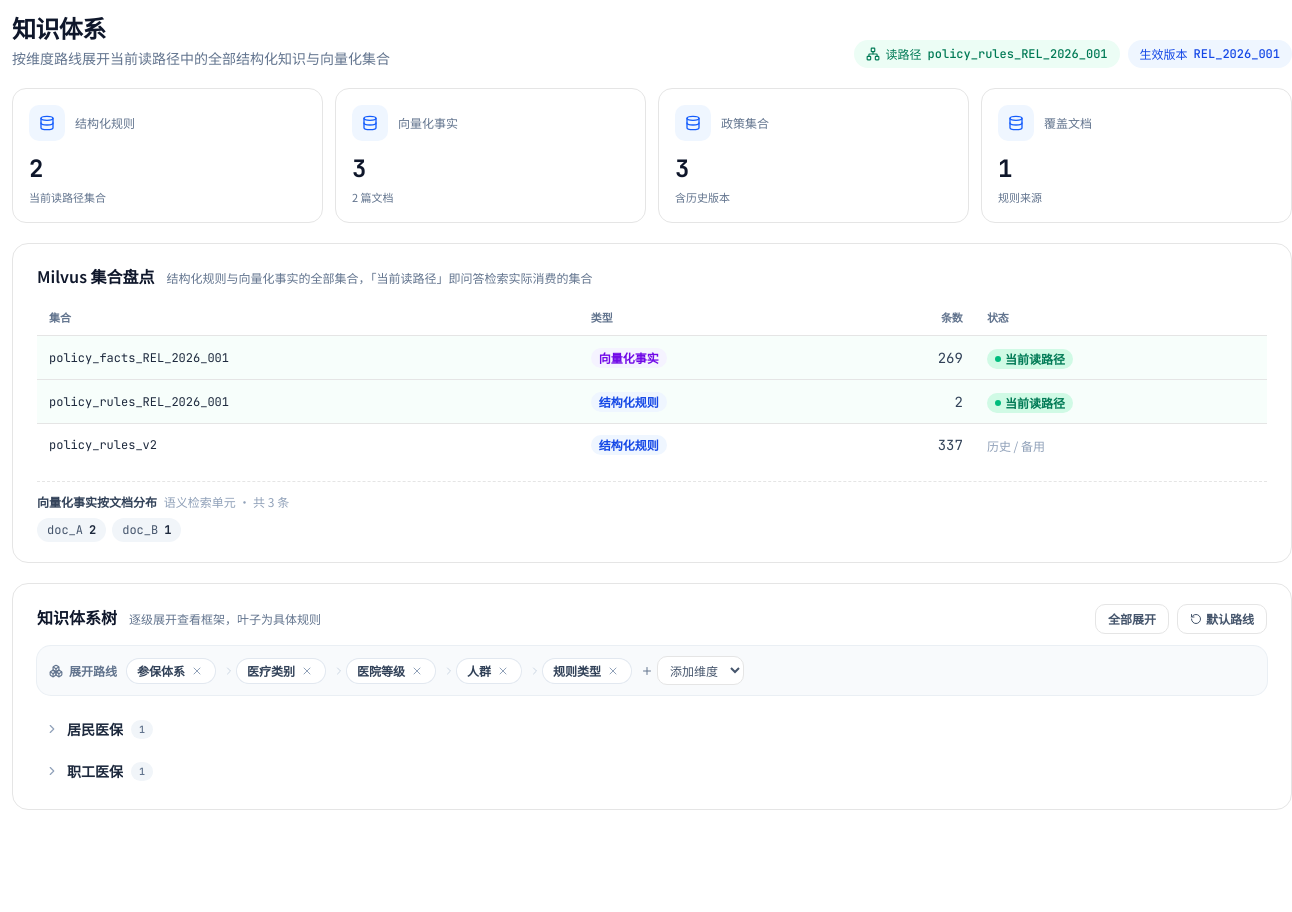
Test: KnowledgeMapPage › 动态字段缺失（键不存在）的规则展开到叶子不崩溃（真实 Milvus 行形态）
Click the button named "移除维度 医疗类别" at point(307, 671), box [299,663,315,679]
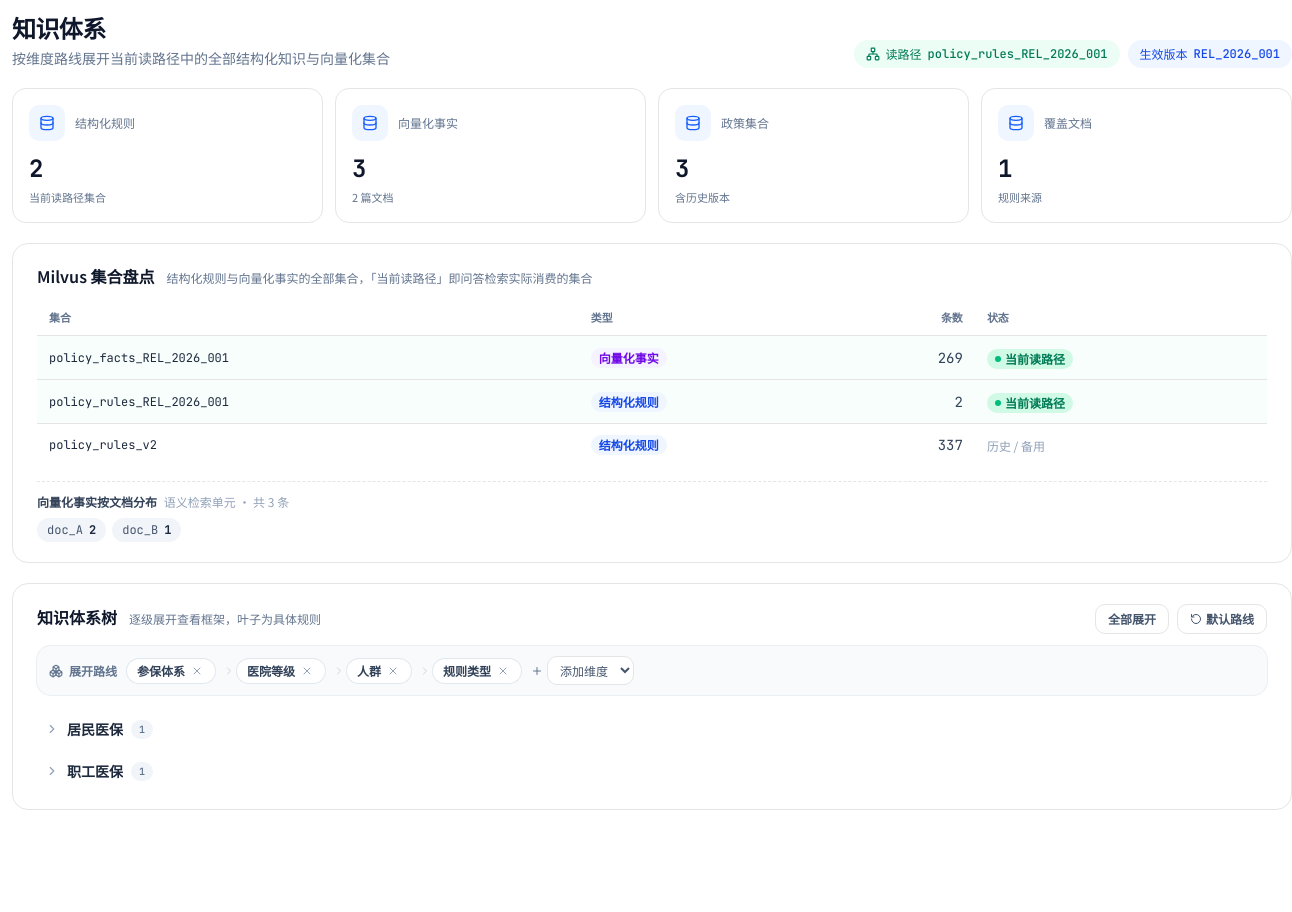
Click the button named "移除维度 医院等级" at point(307, 671), box [299,663,315,679]
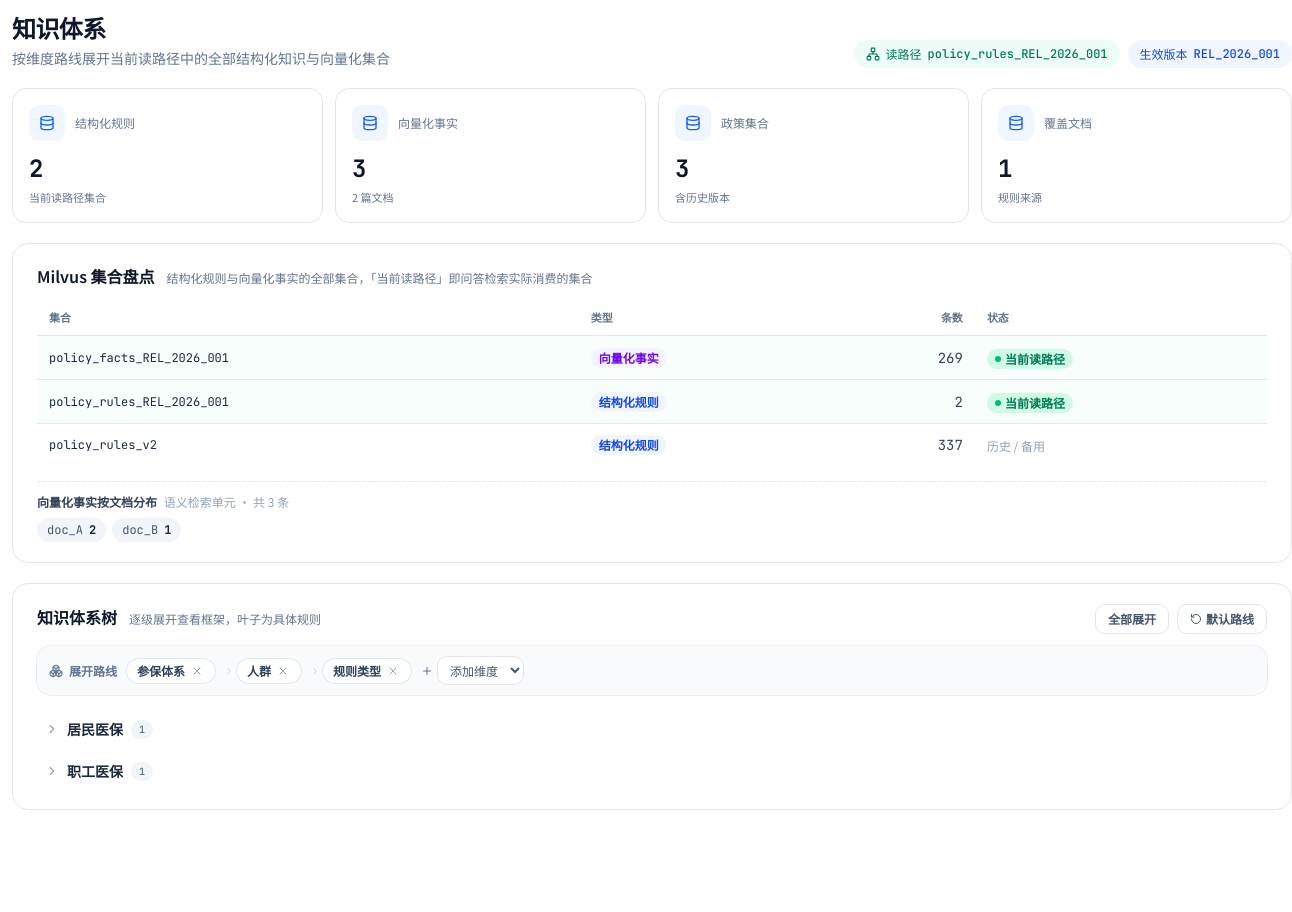
Click the button named "移除维度 人群" at point(283, 671), box [275,663,291,679]
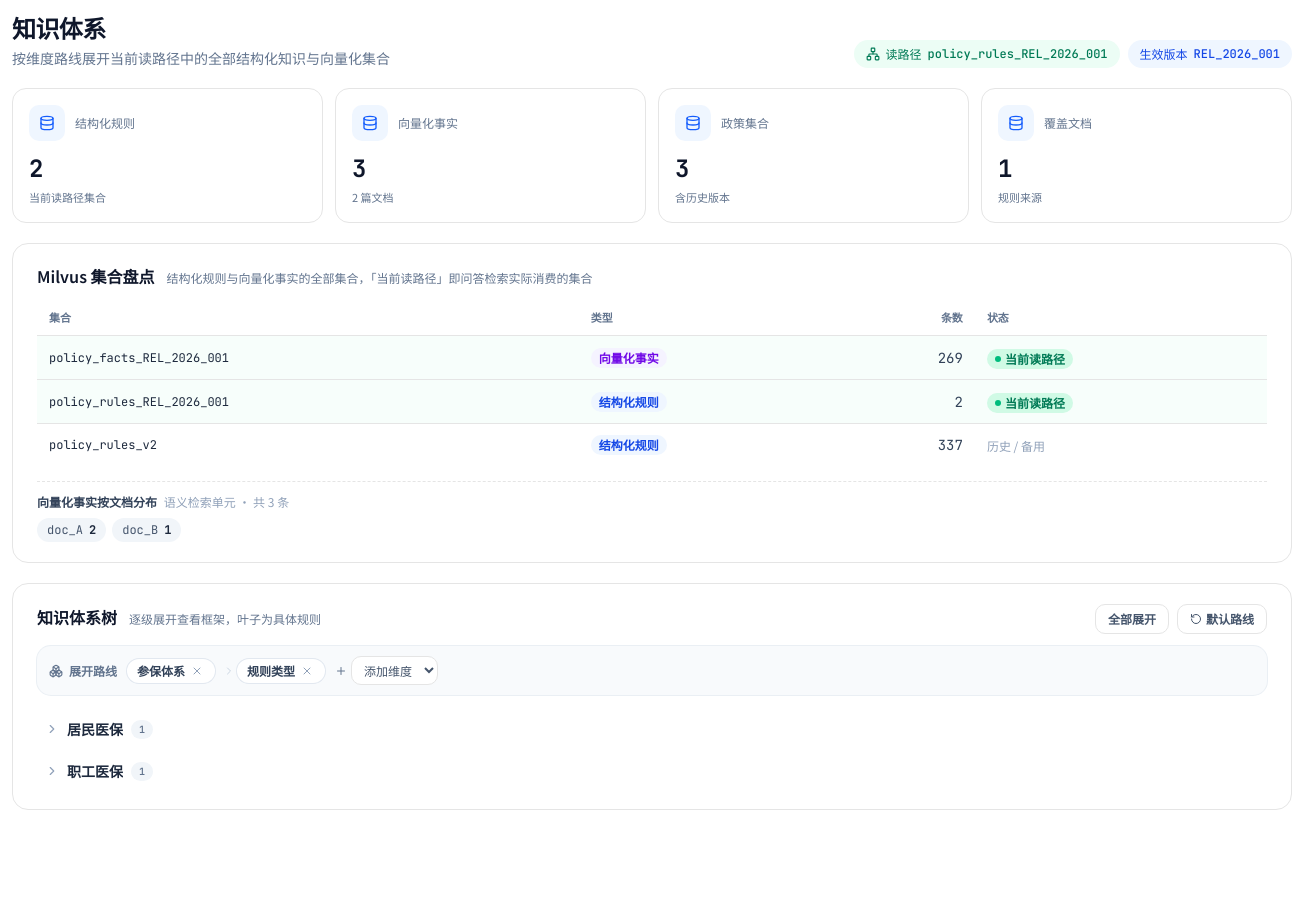
Click the button "居民医保 1" at point(95, 729), box [37,711,1267,747]
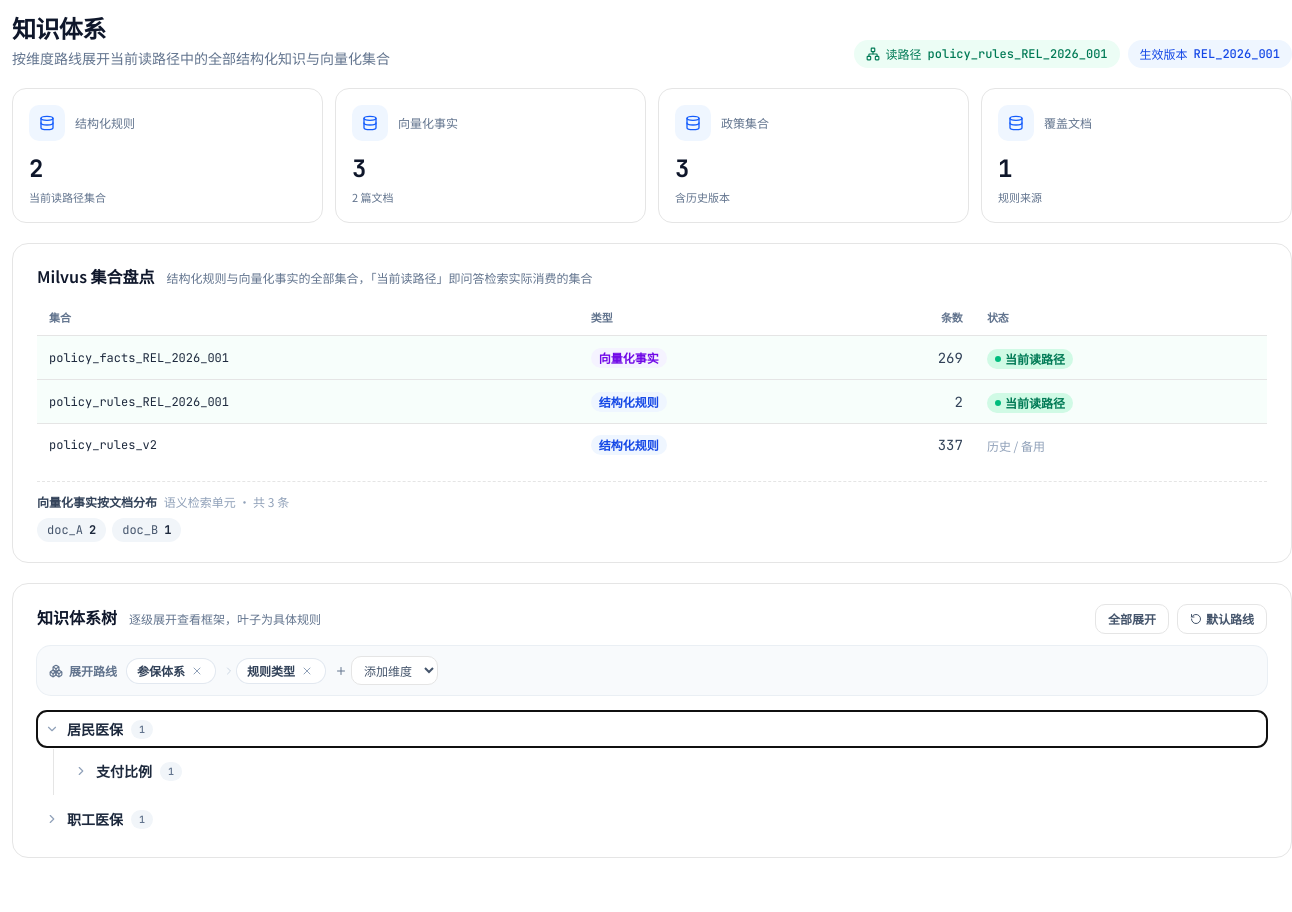
Click the button "支付比例 1" at point(124, 771), box [66,753,1267,789]
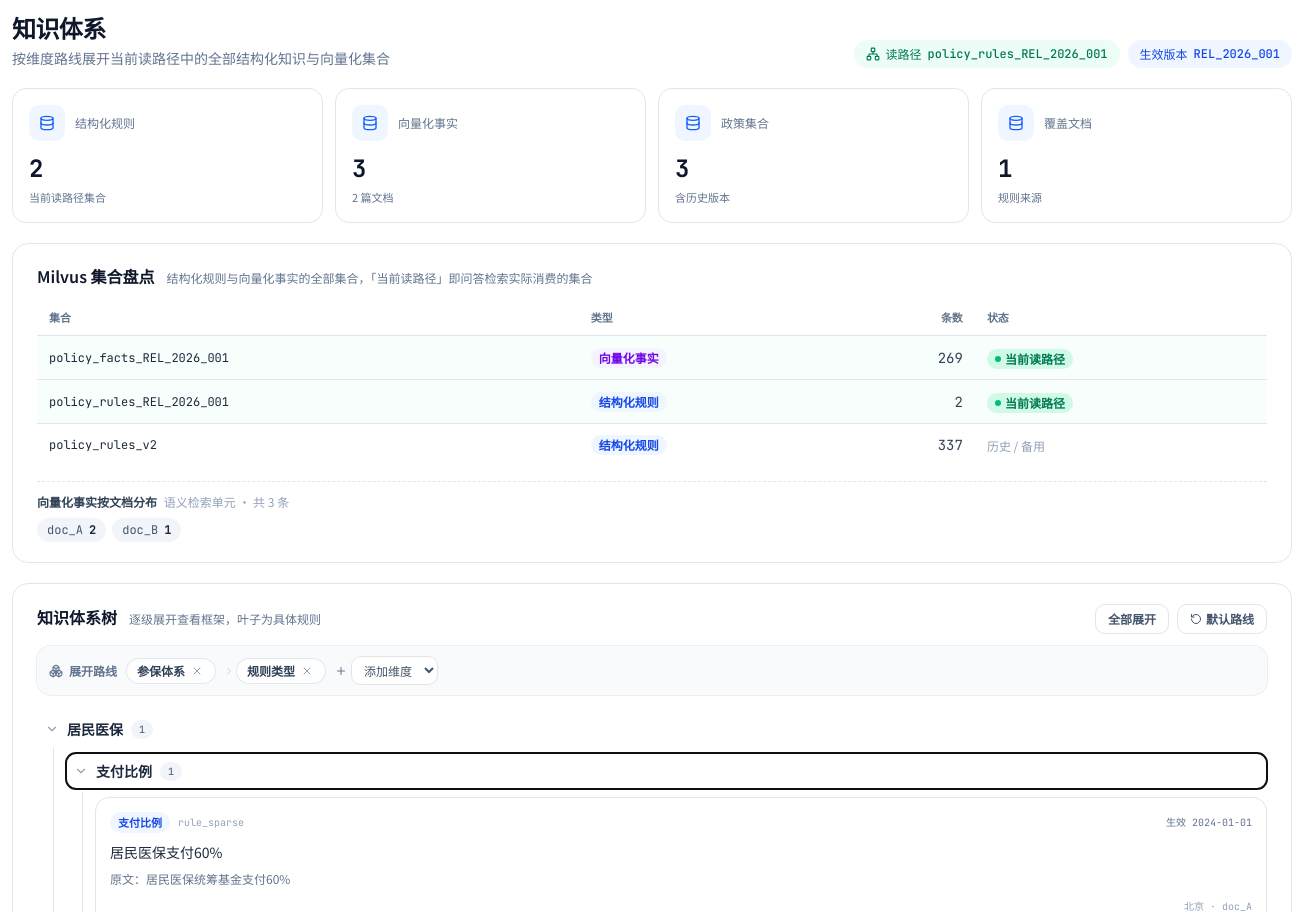
expect the text "居民医保支付60%" is shown: met, box [110,842,222,862]
